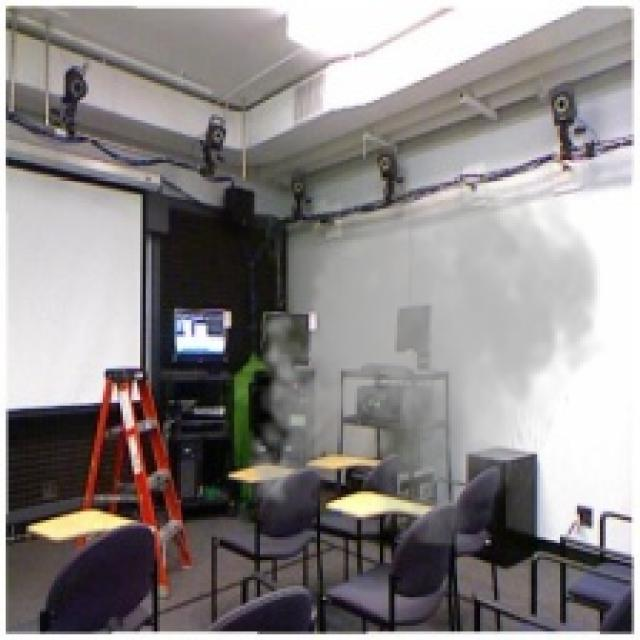smoke: (237, 168, 609, 548)
